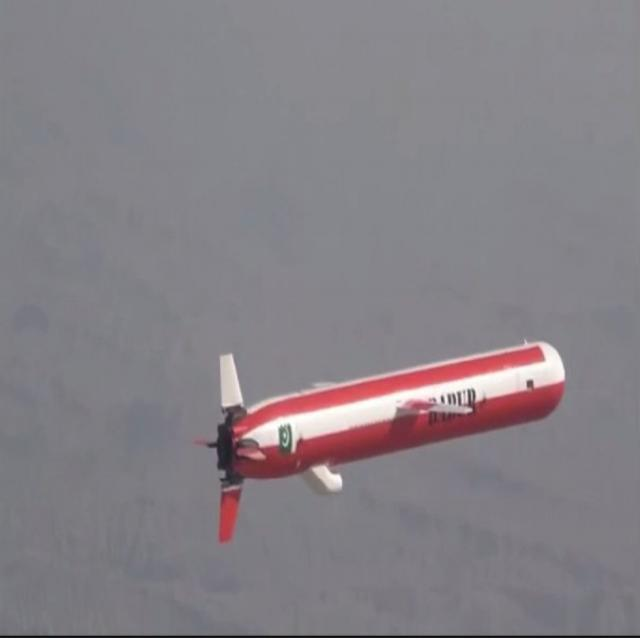missile: (212, 342, 564, 541)
